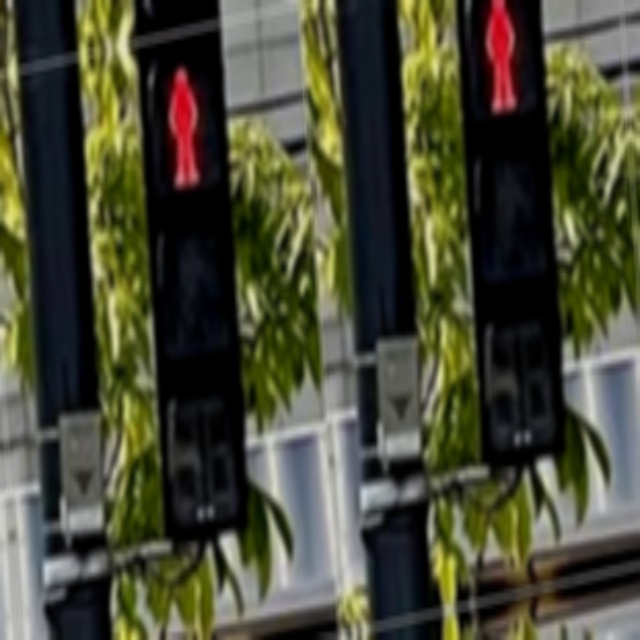red_light: (160, 56, 207, 192), (478, 0, 525, 120)
